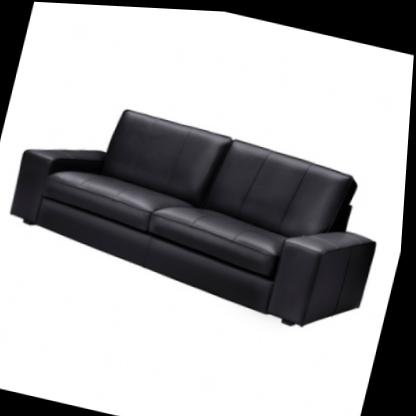Sofa: (0, 82, 404, 341)
